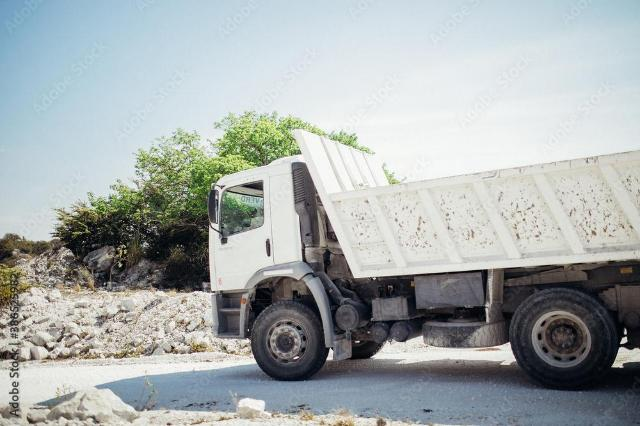truck: (160, 129, 640, 403)
